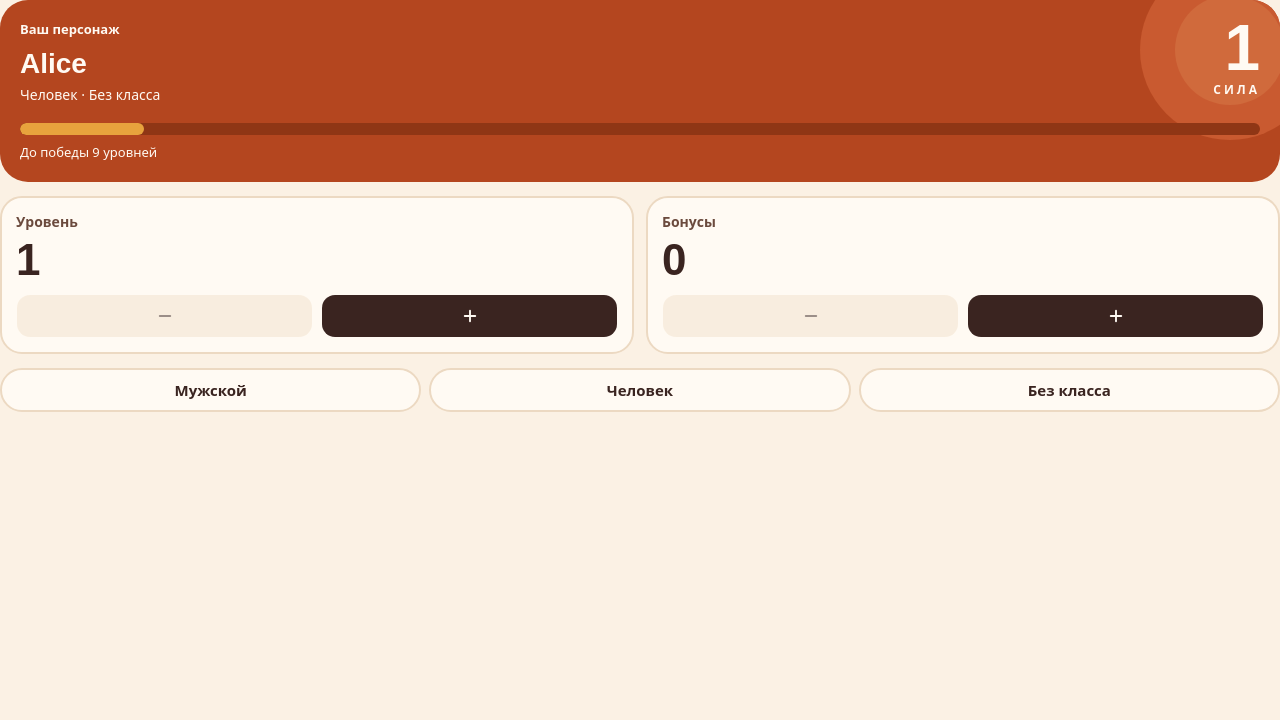
Test: StatsEditor › changes race through the sheet and closes it
Click the button with aria-label "Раса: Человек".
click(640, 390)  # box [429,368,851,412]
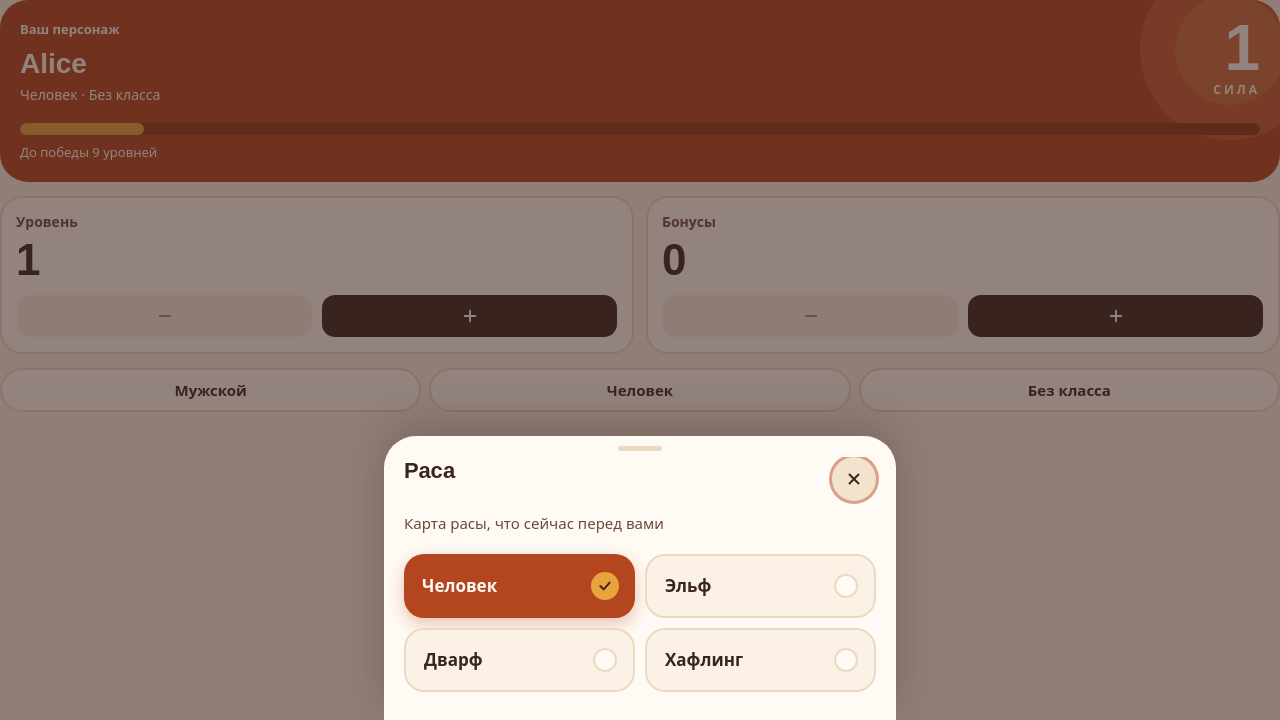
Expected: the radio button labelled "Человек" is checked, [404,554,635,618]
Click the radio button labelled "Эльф".
click(760, 586)  # box [645,554,876,618]
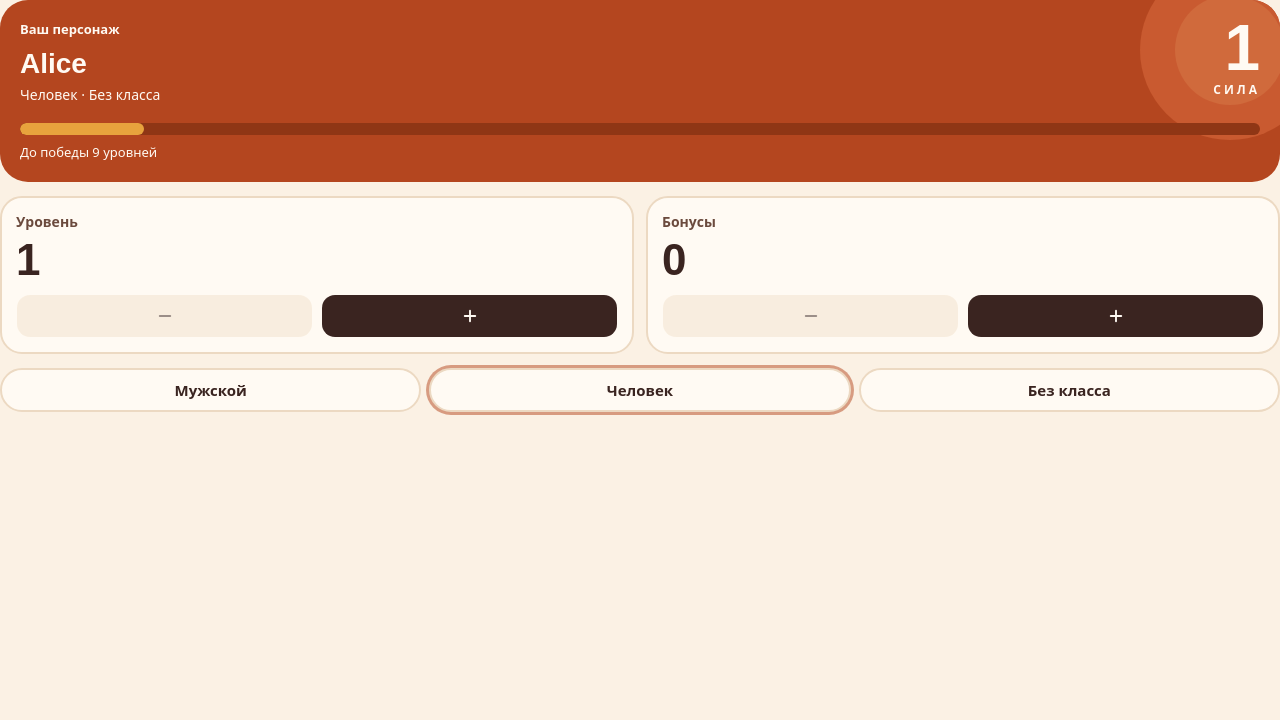
Expected: the dialog is gone
